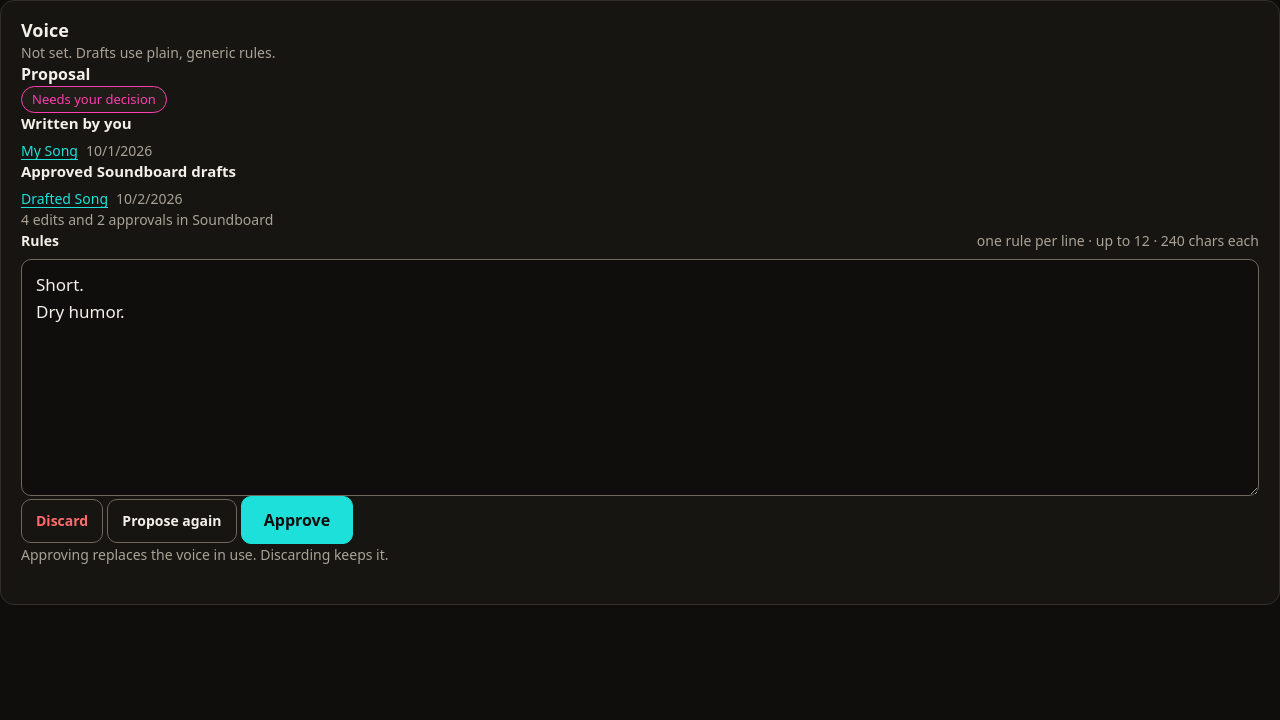
Scenario: VoiceGuide: proposal › keeps the edit and shows the message when another tab changed the guide
Replace the text in the text box labelled "Rules one rule per line · up to 12 · 240 chars each" with "Mine." at (640, 378), box [21, 259, 1259, 496]
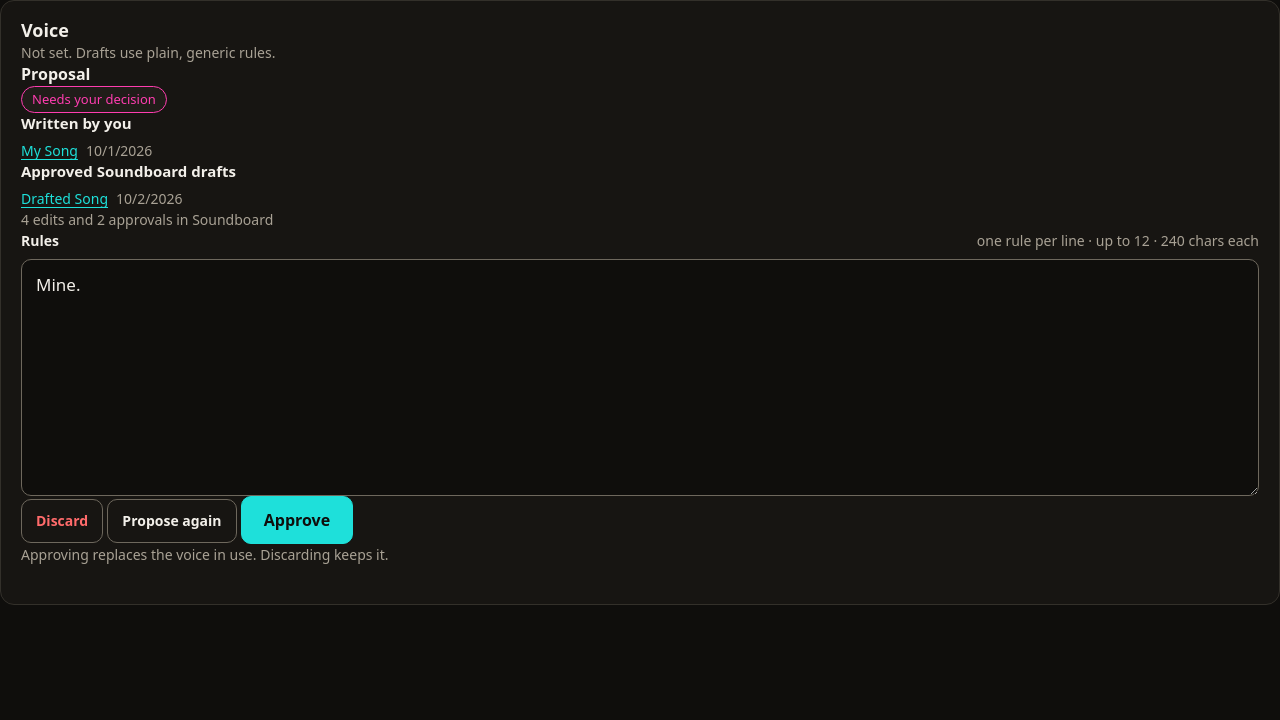
Click the button "Approve".
click(297, 520)  # box [241, 496, 353, 544]
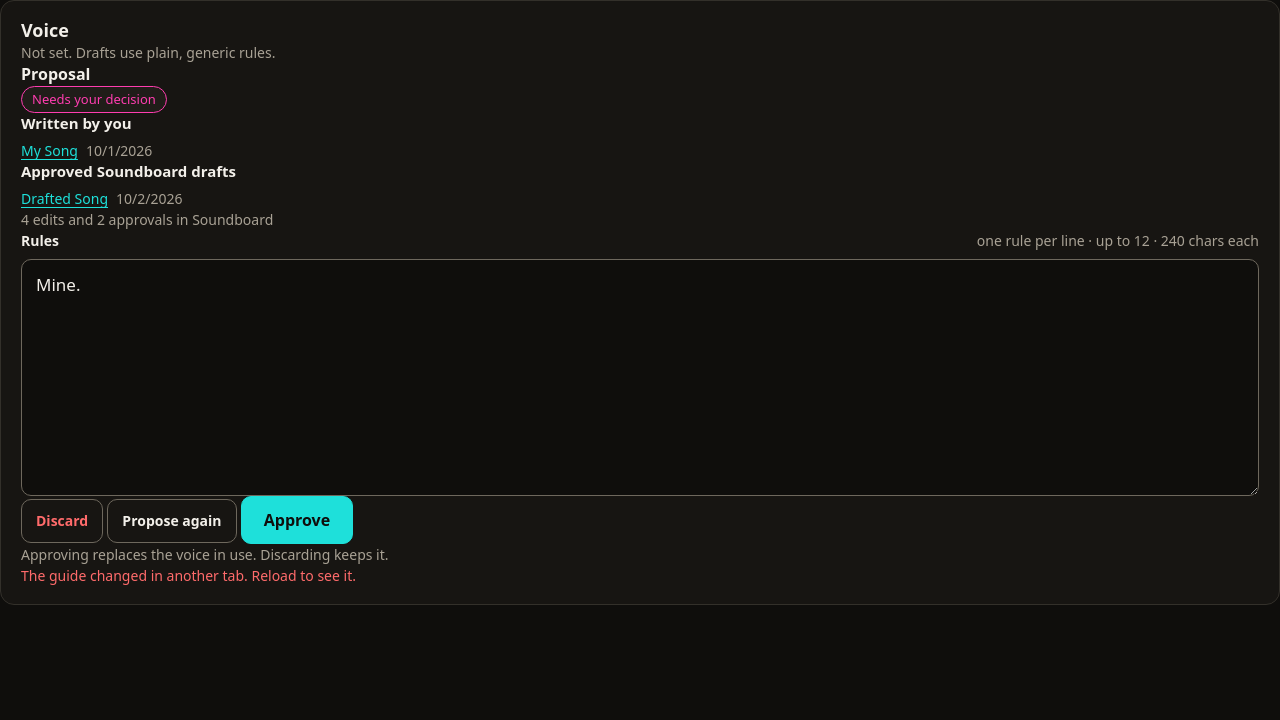
Now the text "The guide changed in another tab. Reload to see it." is shown, box [21, 566, 356, 585]
